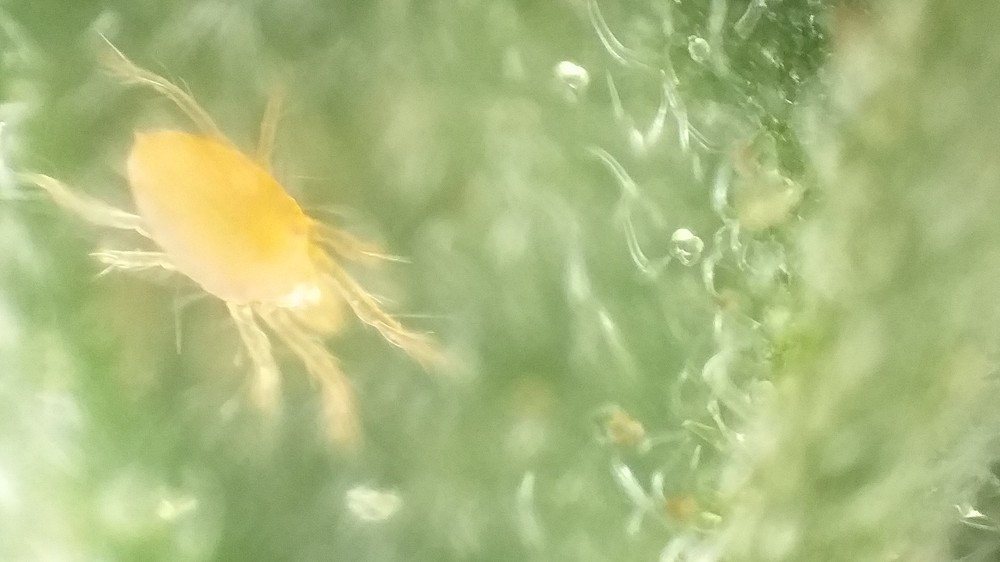Aracnido Rojo: (26, 38, 505, 484)
